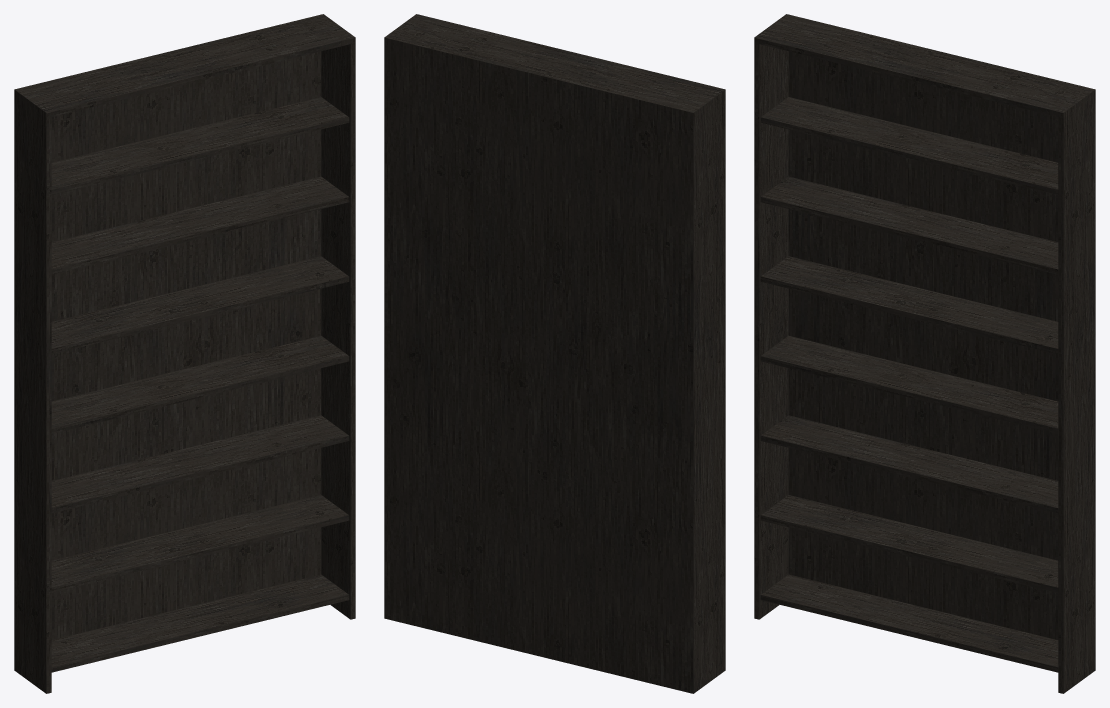
File: shelf_mp_4.glb
The picture shows the model from 3 angles, left to right: view 1: azimuth 30°, elevation 25°; view 2: azimuth 150°, elevation 25°; view 3: azimuth 330°, elevation 25°; orthographic projection.
Visible parts, largest first — view 1: shelf_mp_4; view 2: shelf_mp_4; view 3: shelf_mp_4.
Part boxes in pixels (left/top/right/bottom): shelf_mp_4: left=14, top=14, right=355, bottom=693; shelf_mp_4: left=384, top=14, right=725, bottom=693; shelf_mp_4: left=754, top=14, right=1095, bottom=693.
Bounding box in the file's own units: 1.22 × 2.19 × 0.22.
Materials: 1 (1 with a texture image).
